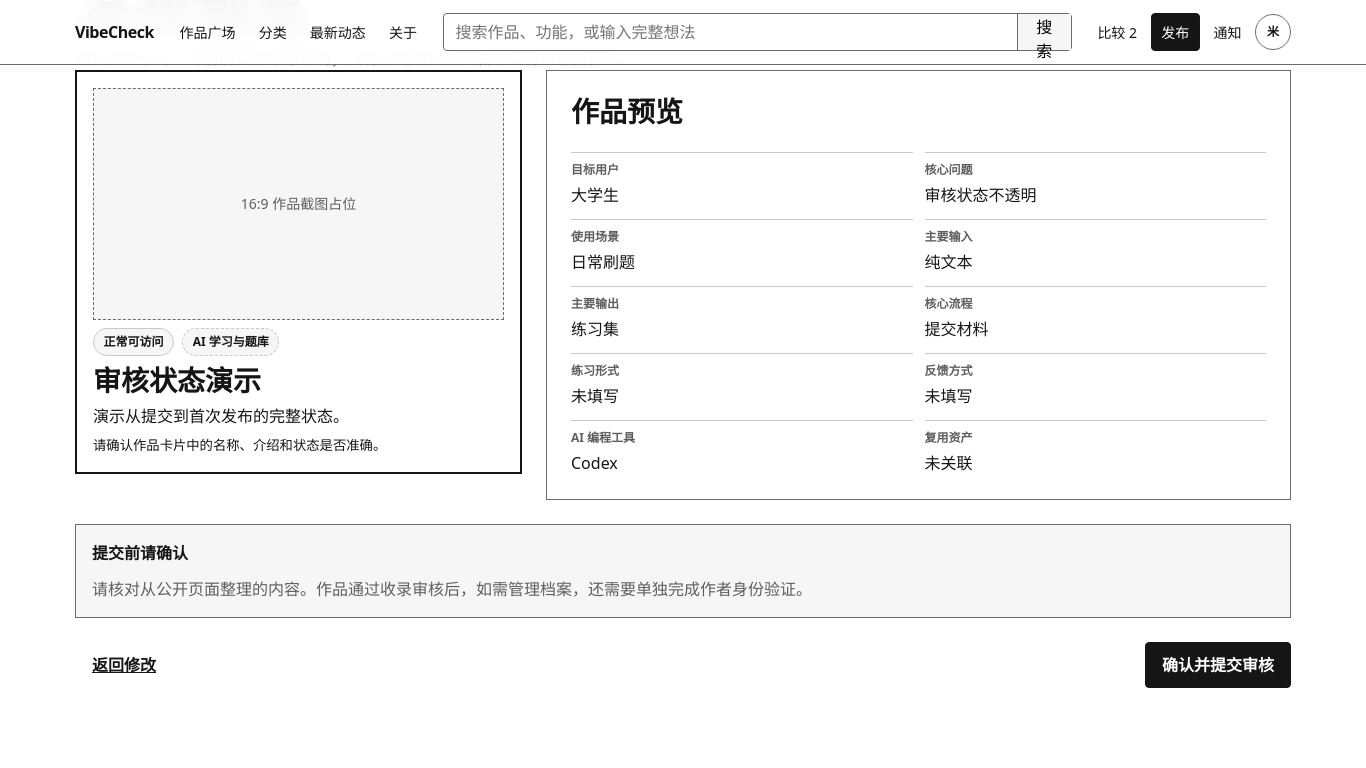
Scenario: submission preview and review status › confirms once, shows pending without a fabricated ETA, saves material and withdraws
The width and height of the screenshot is (1366, 768).
(page scrolled)
Expected: the element named "社区卡片预览" shows "审核状态演示", [93, 361, 261, 399]
Click the button "确认并提交审核". click: (1218, 665)
box: [1145, 642, 1291, 688]
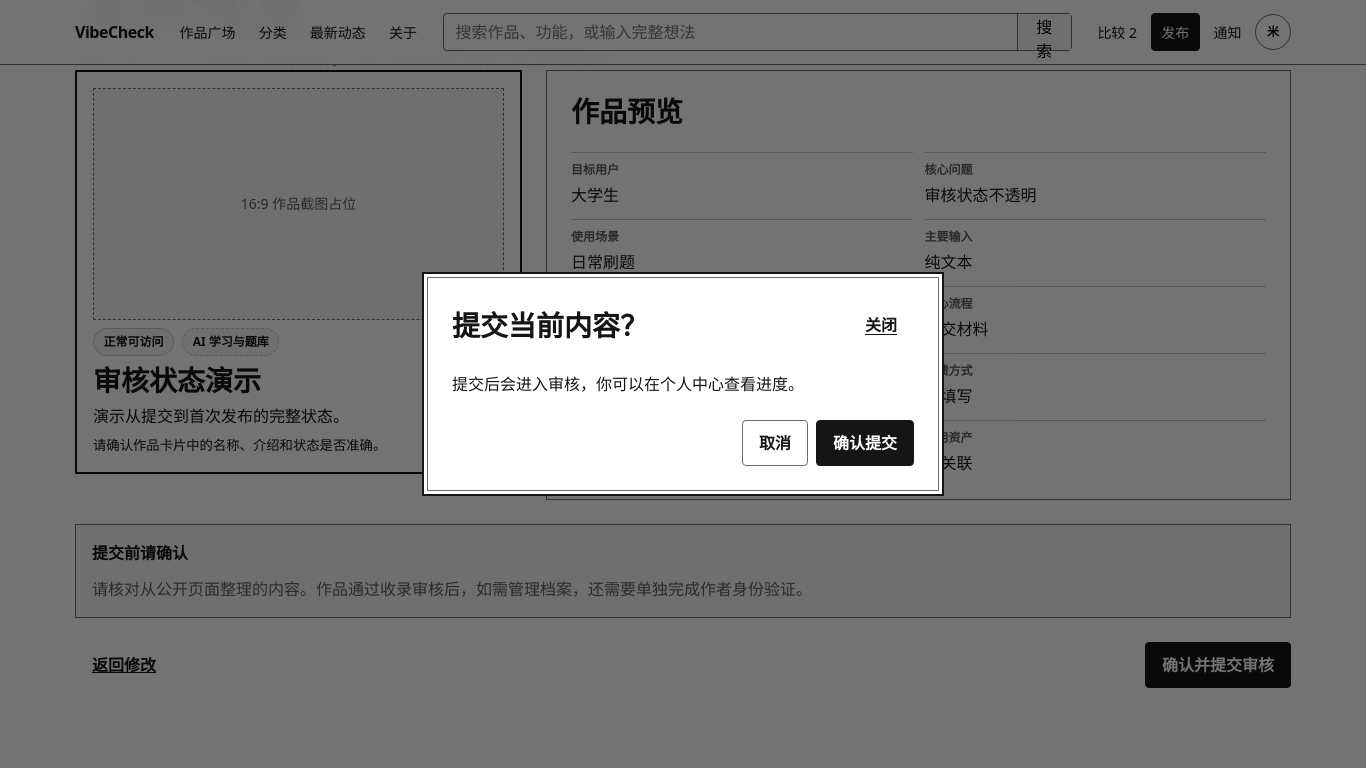
Click the button "确认提交". click: (865, 443)
box: [816, 420, 914, 466]
(page scrolled)
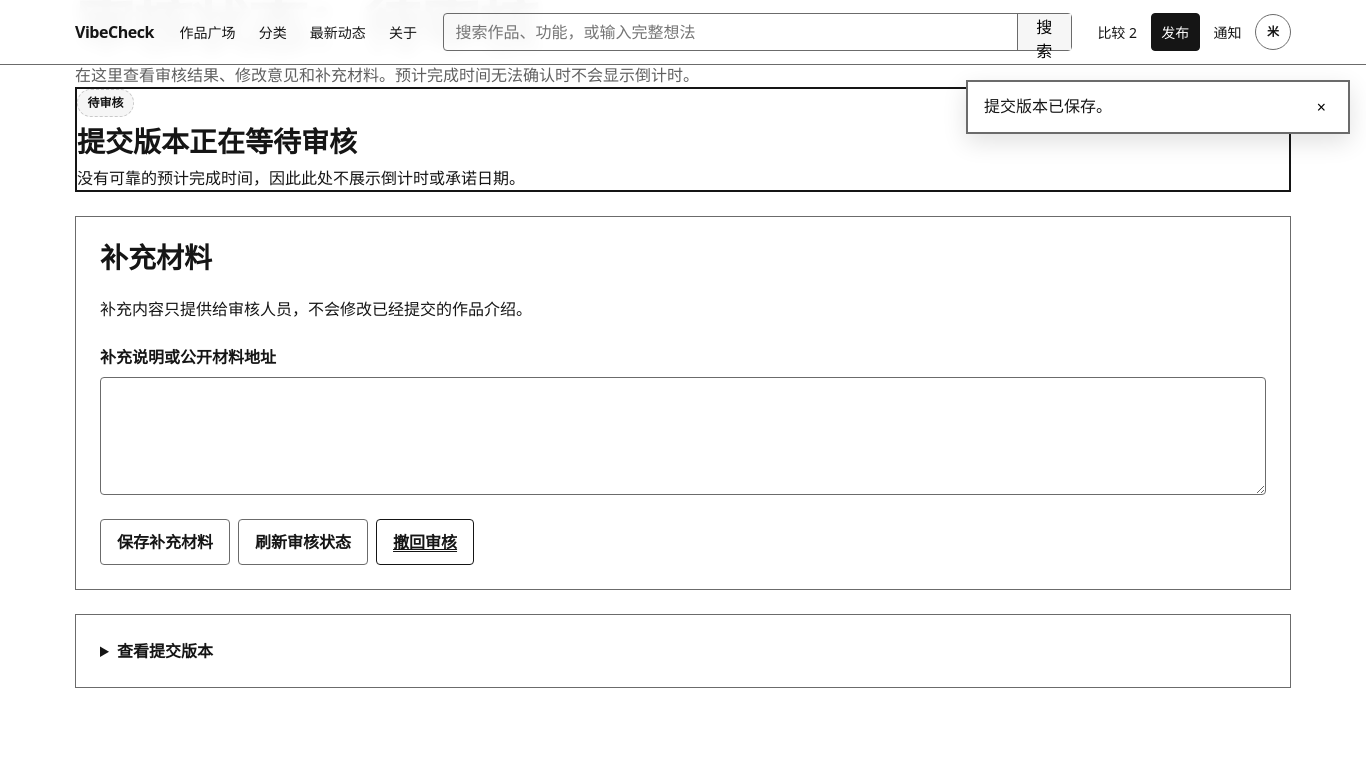
Now the text "没有可靠的预计完成时间，因此此处不展示倒计时或承诺日期。" is shown, box [77, 167, 525, 189]
Type "https://example.test/material" into the text box labelled "补充说明或公开材料地址". click: (683, 436)
box: [100, 377, 1266, 495]
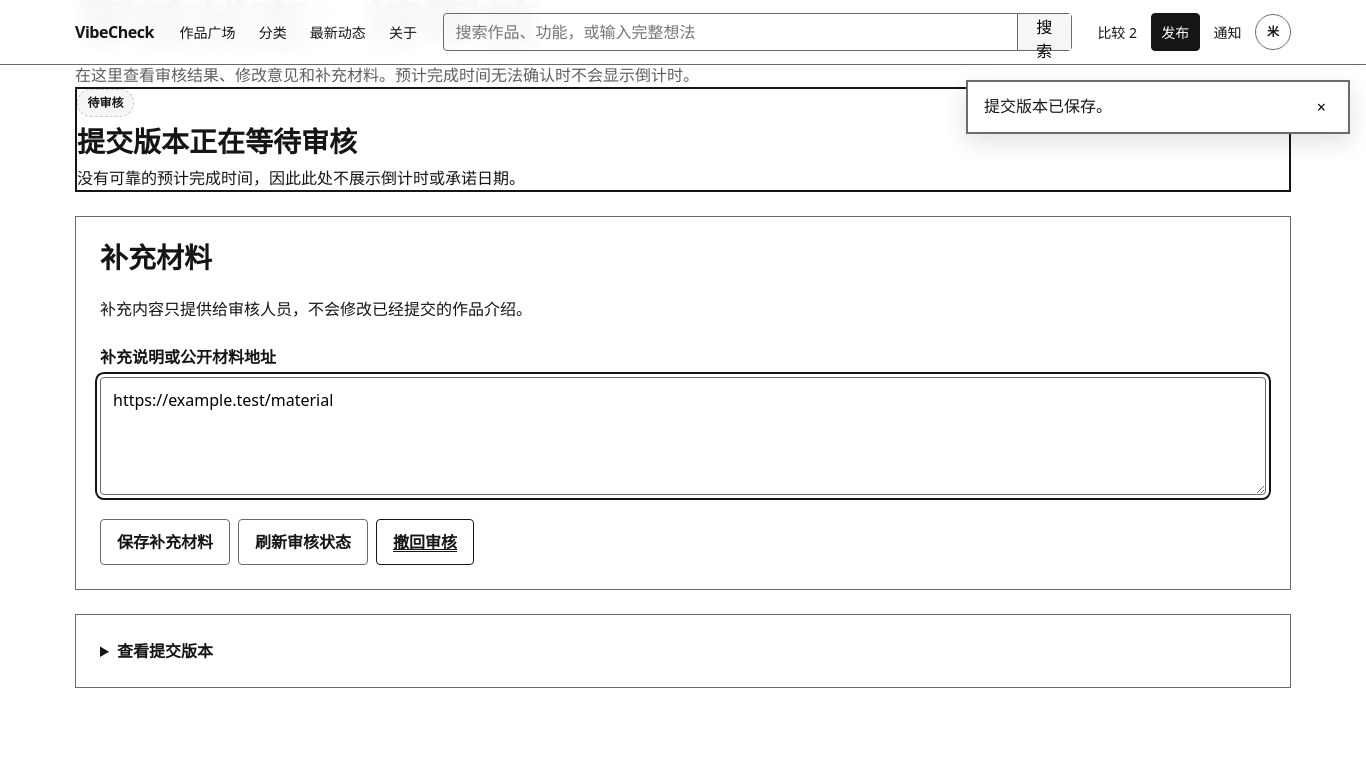
Click the button "保存补充材料". click: (165, 542)
box: [100, 519, 230, 565]
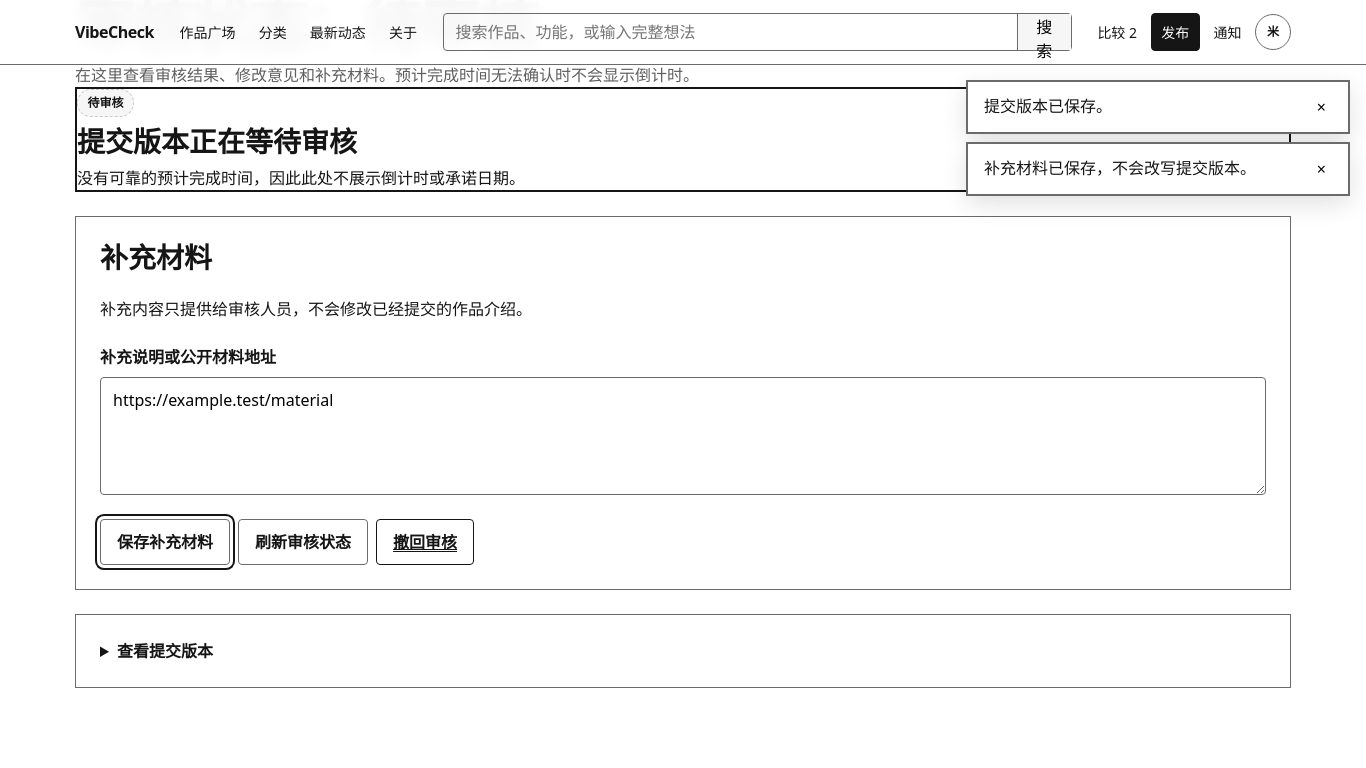
Click the button "撤回审核". click: (425, 542)
box: [376, 519, 474, 565]
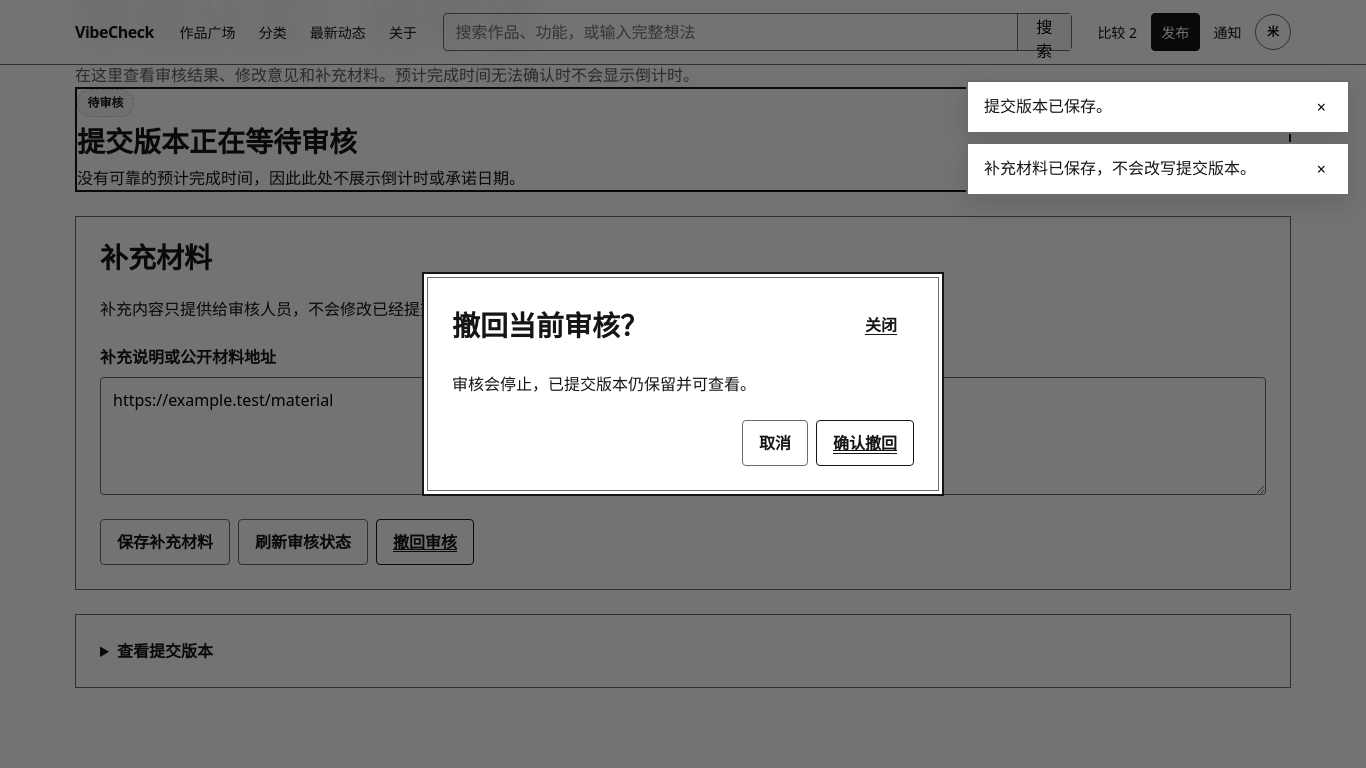
Click the button "确认撤回". click: (865, 443)
box: [816, 420, 914, 466]
(page scrolled)
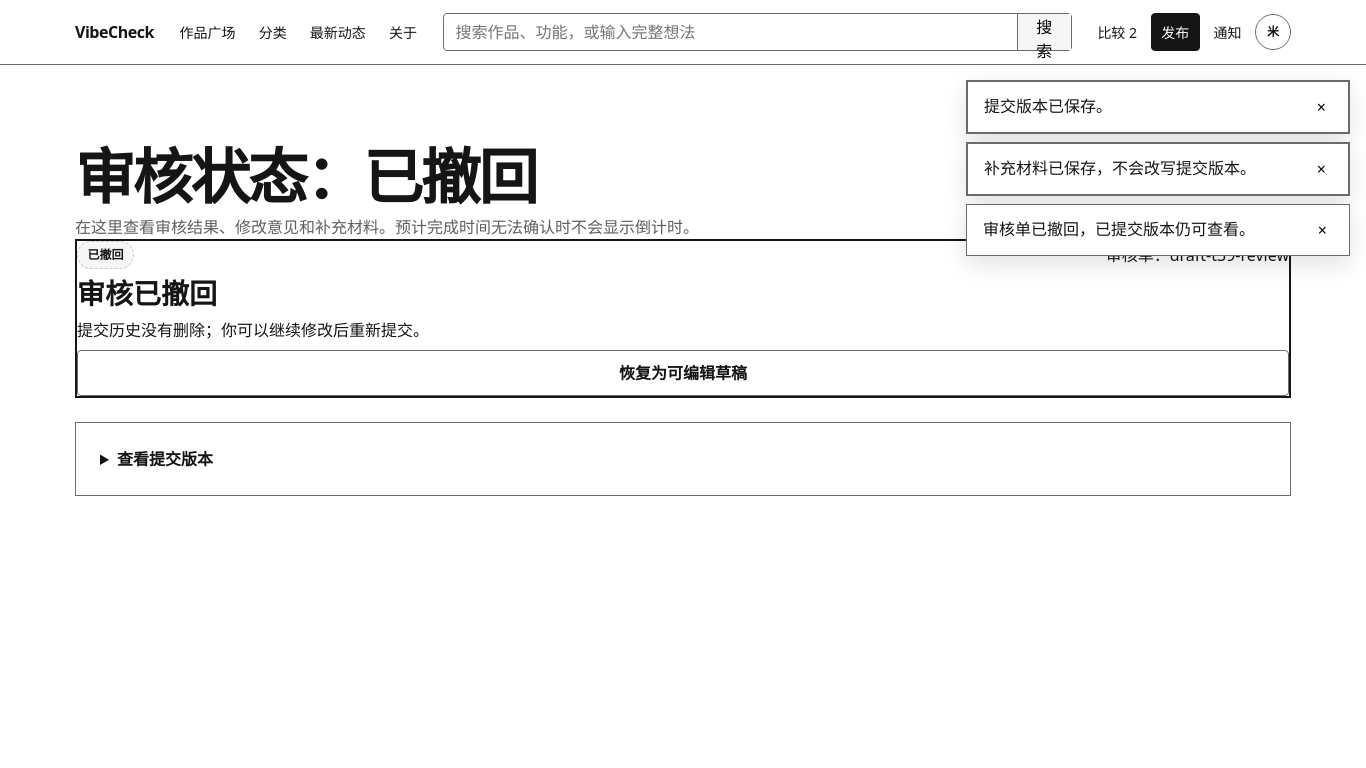
Now the heading "审核状态：已撤回" is shown, box [75, 135, 536, 217]
